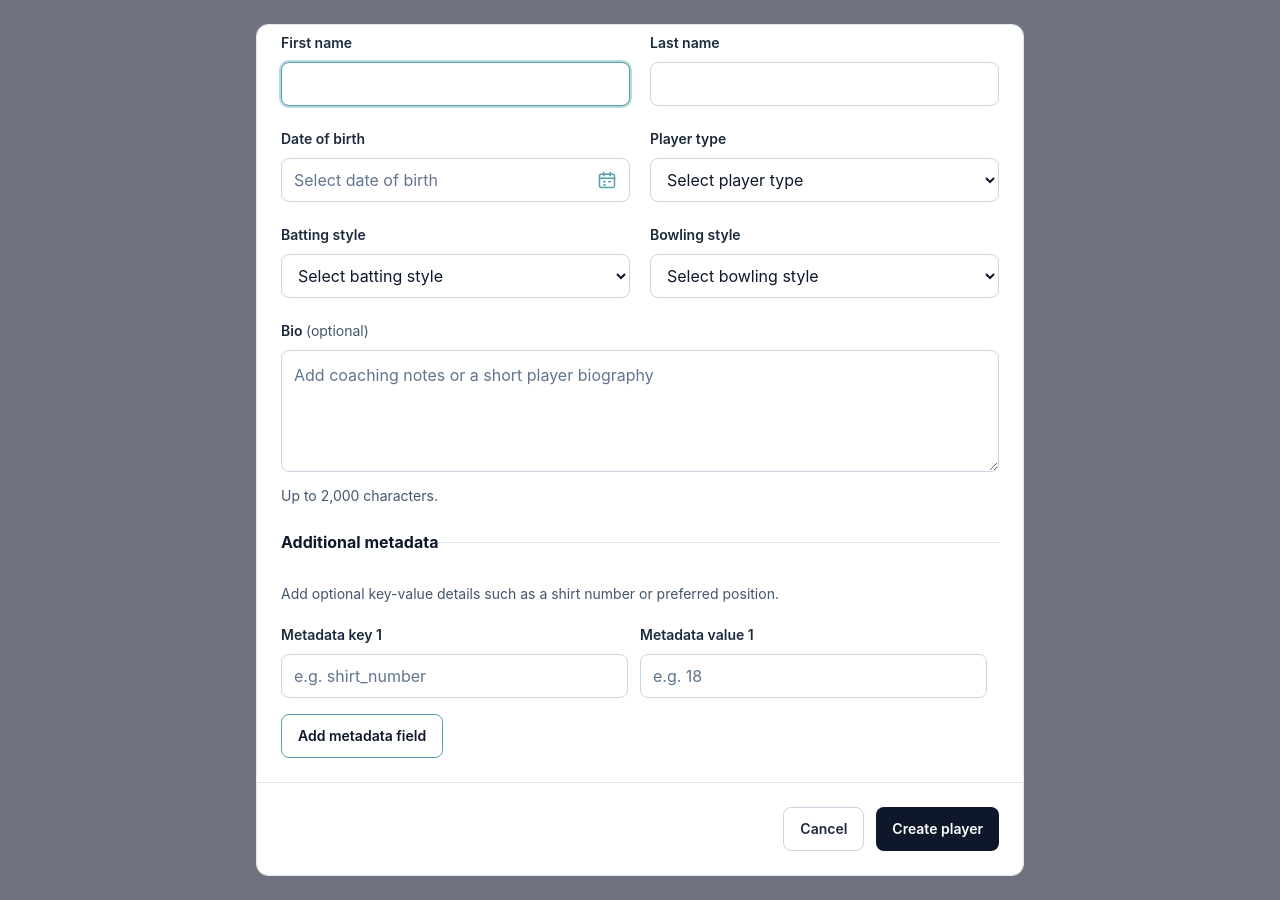
Test: AddPlayerModal › keeps validation errors in the form without posting
(page scrolled)
Click the button "Create player".
click(938, 829)  # box [876,807,999,851]
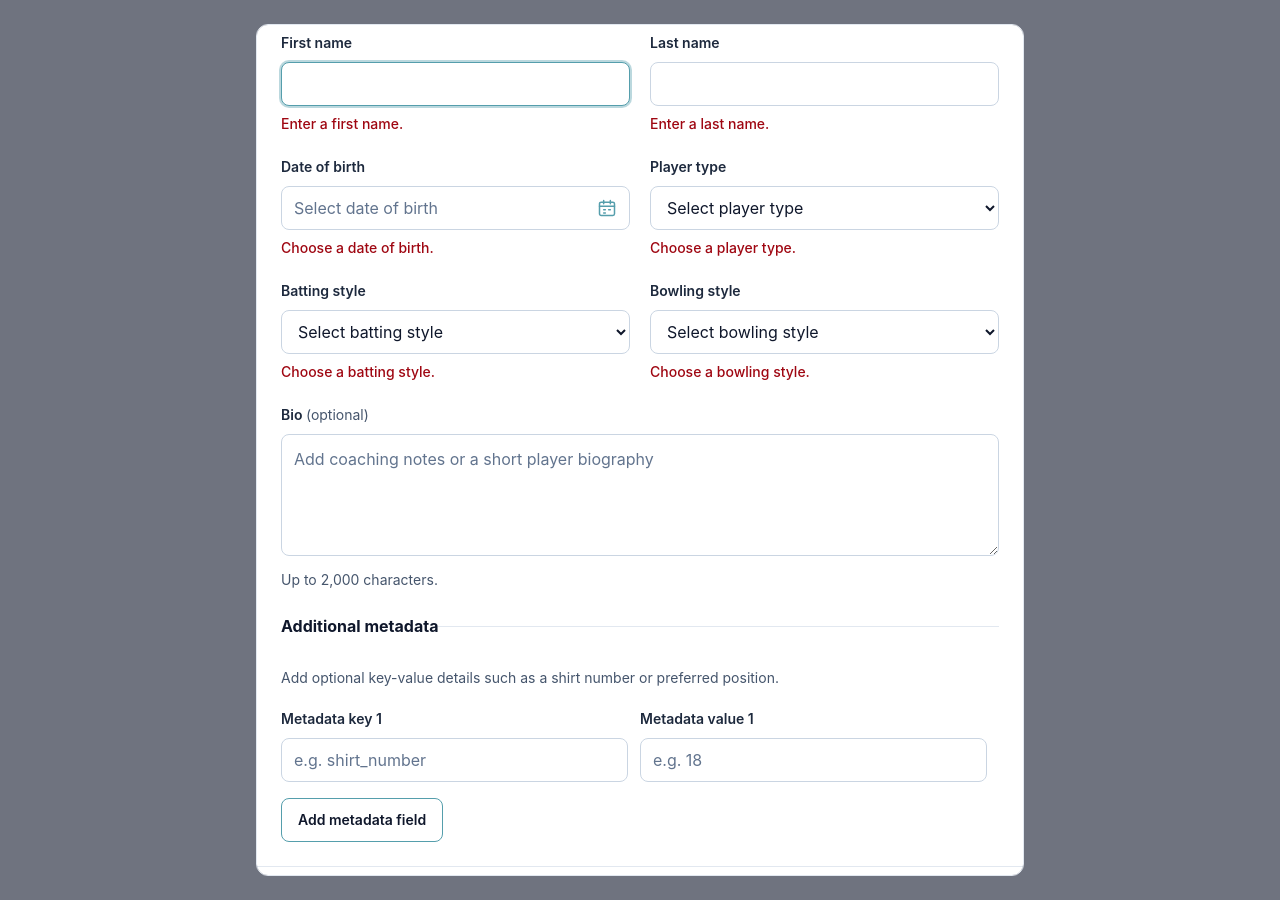
Expected: the dialog is shown, [256,24,1024,876]
Expected: the text "Enter a first name." is shown, [281,115,403,132]
